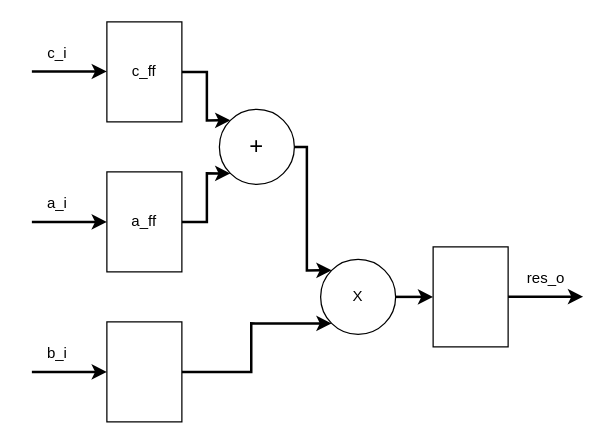
Some shapes in this 615 by 444 pixel diagram are drawn without their labels. Here are the shapes that lost their labels. From the top down, the box of each, then its label:
(432, 246, 508, 347): res_ff
(106, 321, 182, 422): b_ff
